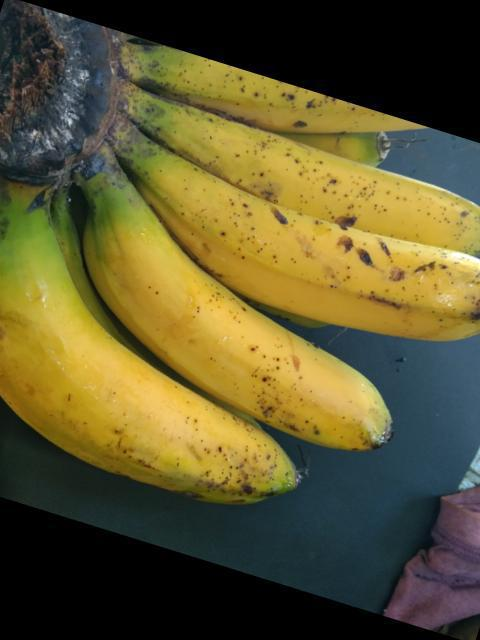ripe: (72, 150, 401, 452), (0, 188, 296, 496), (151, 159, 476, 338), (141, 96, 479, 237)
